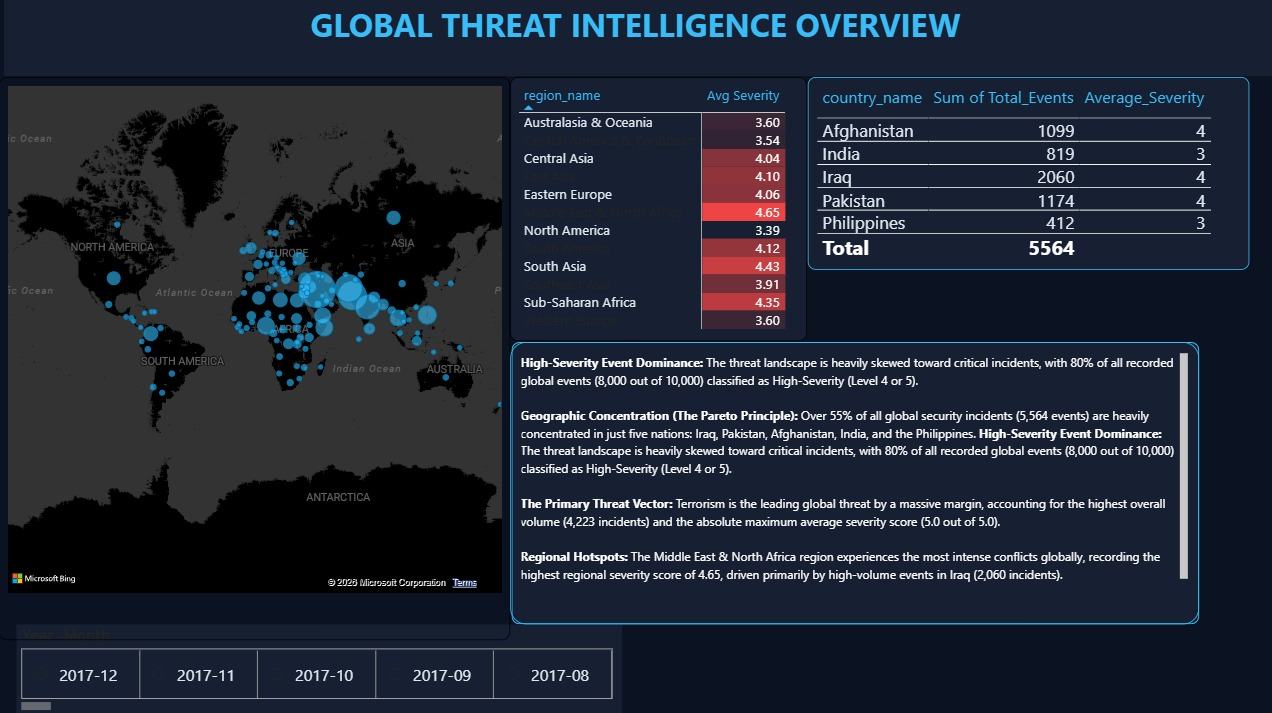

What the dashboard file says about the page in this screenshot:
{"tool":"powerbi","page":{"name":"Page 2 Geography","canvas":[1280,720],"ordinal":1},"visuals":[{"type":"shape","box":[5,0,1270.7,79.6],"z":0},{"type":"textbox","box":[240,1.4,792.9,78.6],"z":1000},{"type":"advancedSlicerVisual","fields":{"Values":["DimDate.Year-Month"]},"box":[17.1,627.1,605.7,92.9],"z":2000},{"type":"map","fields":{"Category":["dim_countries.country_name"],"Size":["fact_events.Total Events"]},"box":[0,79.6,511.5,563.4],"z":3000},{"type":"tableEx","fields":{"Values":["vw_Top_5_Countries.country_name","Sum(vw_Top_5_Countries.Total_Events)","vw_Top_5_Countries.Average_Severity"]},"box":[808.3,79.6,441.6,193],"z":4000},{"type":"pivotTable","fields":{"Rows":["dim_countries.region_name"],"Values":["select","fact_events.Avg Severity"]},"box":[511.5,79.6,296.8,264.2],"z":5000},{"type":"shape","box":[512.2,344.4,687.8,282.2],"z":5001},{"type":"textbox","box":[511.1,344.4,688.9,282.2],"z":5002}]}

Visuals, with their boxes in screenshot pixels (x1, y1, x2, y2), scaled from the page's 1280x720 canvas onto the 1272x713 screenshot:
shape: 5,0,1268,79
textbox: 238,1,1026,79
advancedSlicerVisual - DimDate.Year-Month: 17,621,619,712
map - dim_countries.country_name x fact_events.Total Events: 0,79,508,637
tableEx - vw_Top_5_Countries.country_name x Sum(vw_Top_5_Countries.Total_Events): 803,79,1242,270
pivotTable - dim_countries.region_name x select: 508,79,803,340
shape: 509,341,1192,621
textbox: 508,341,1192,621
